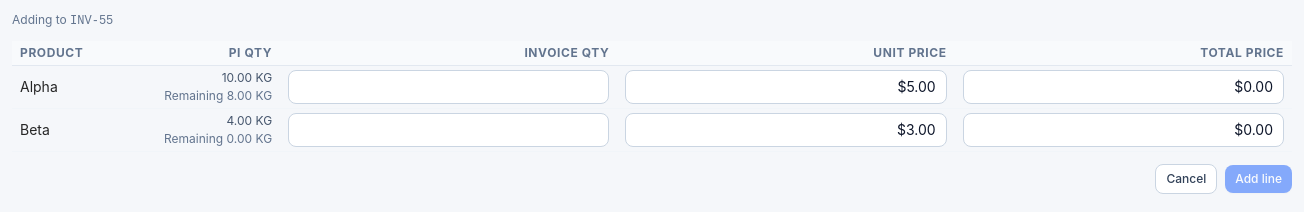
Test case: InvoiceEditor — add-line mode › drops a PI line that vanished under add-line and says so
Expected: the text "Alpha" is shown, [12,66,117,108]
In the number field named "Invoice qty for Alpha": (449,87) [288,70,610,104], type "1"
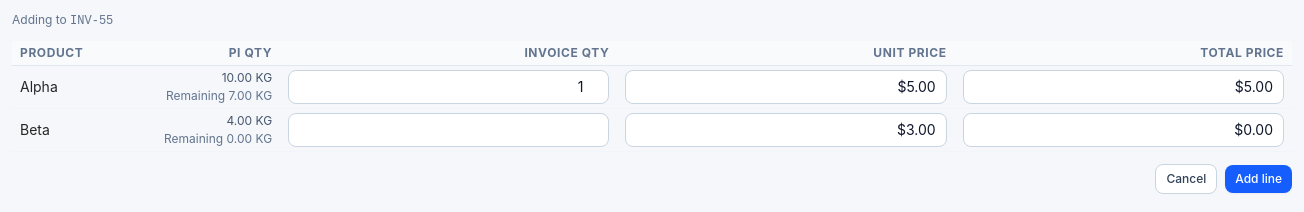
In the number field named "Invoice qty for Beta": (449,130) [288,113,610,147], type "100"
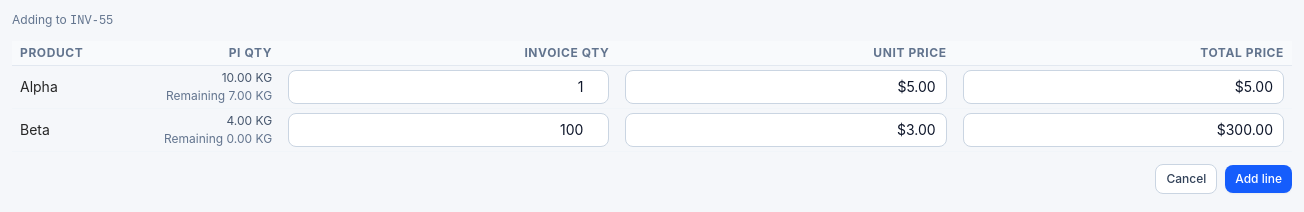
Click the button "Add line": (1259,179) [1225,165,1292,193]
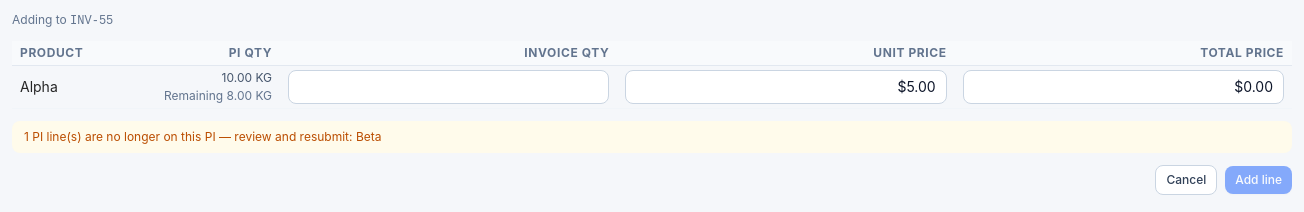
Now the text "1 PI line(s) are no longer on this PI" is shown, box [12,121,1292,153]
